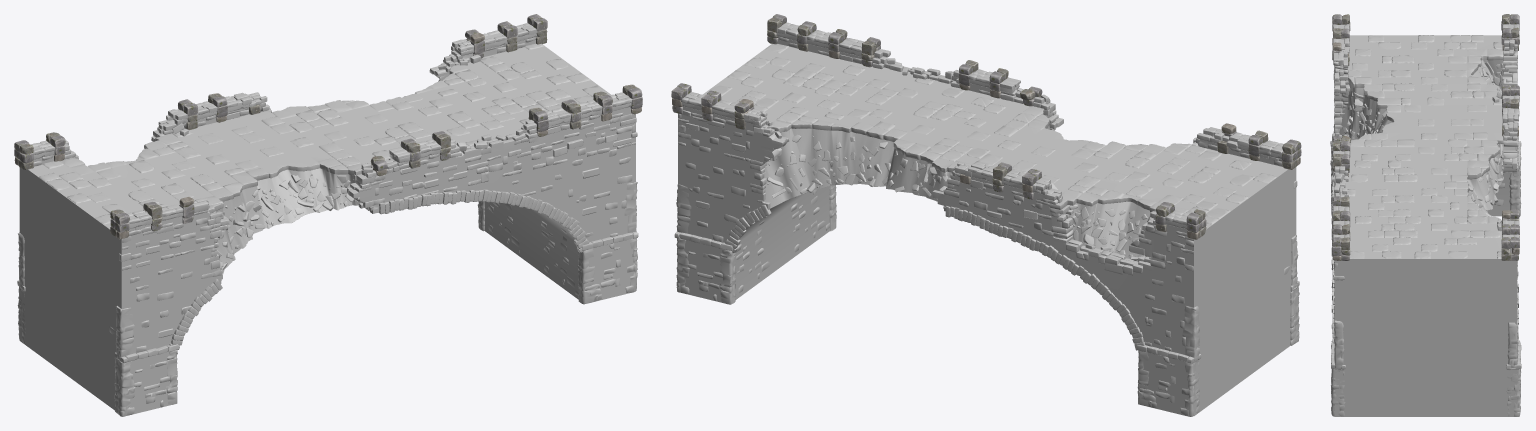
3 views of the same model, side by side, from view 1: azimuth 30°, elevation 25°; view 2: azimuth 150°, elevation 25°; view 3: azimuth 270°, elevation 25° (orthographic). The views are drawn at different scales.
Visible parts, largest first — view 1: SM_Castle_Bridge_01_Dmg_LOD0; view 2: SM_Castle_Bridge_01_Dmg_LOD0; view 3: SM_Castle_Bridge_01_Dmg_LOD0.
Part boxes in pixels (x1,y1,x2,y2): SM_Castle_Bridge_01_Dmg_LOD0: (14,14,642,416); SM_Castle_Bridge_01_Dmg_LOD0: (671,14,1301,416); SM_Castle_Bridge_01_Dmg_LOD0: (1330,14,1521,416).
Bounding box in the file's own units: 32.63 × 11.91 × 11.57.
